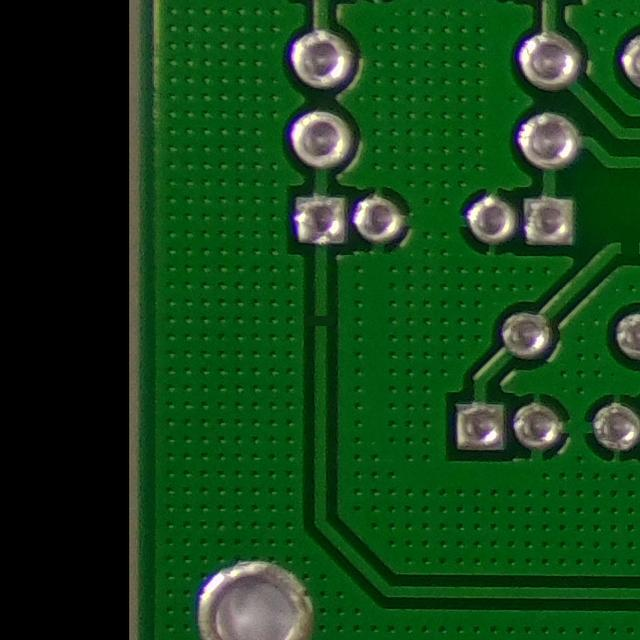open_circuit: (305, 305, 334, 336)
